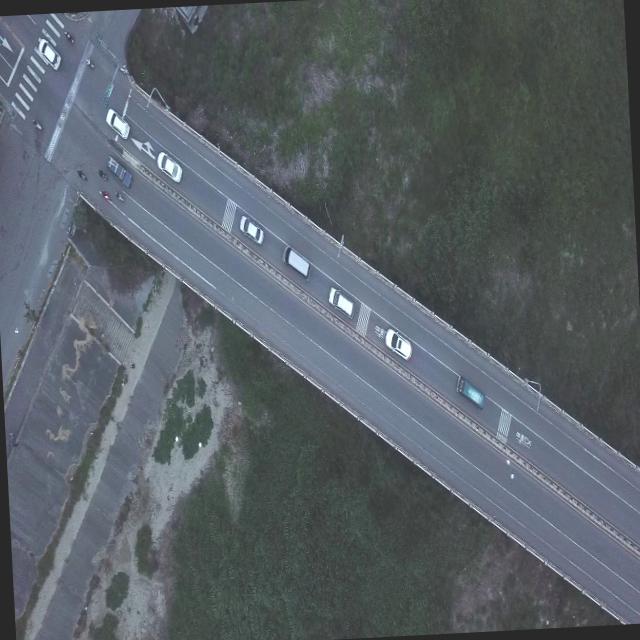bike: (32, 118, 44, 135), (114, 189, 125, 204), (99, 190, 111, 203), (77, 168, 88, 182), (98, 168, 109, 180), (65, 28, 73, 43), (88, 59, 95, 69)
car: (282, 243, 310, 280), (456, 373, 484, 410), (384, 326, 412, 361), (156, 150, 184, 184), (107, 156, 133, 191), (36, 36, 61, 72), (328, 286, 354, 320), (238, 214, 265, 246), (106, 108, 130, 141)
